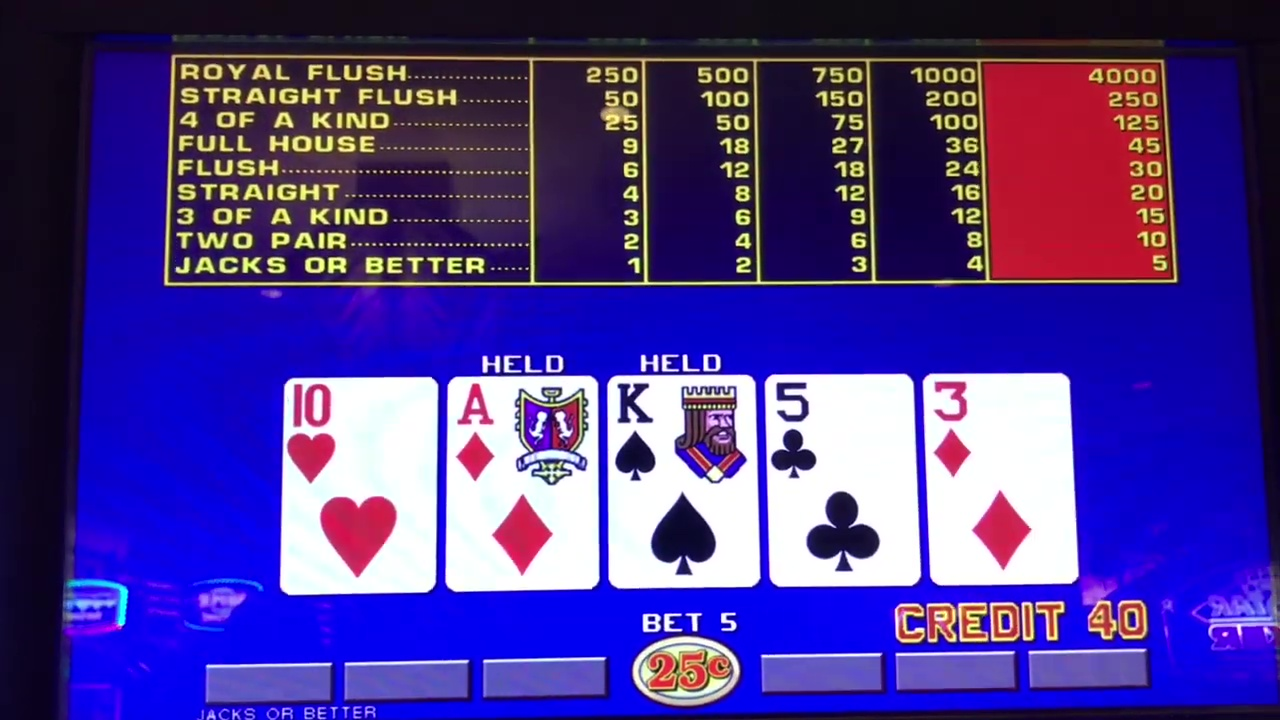C5: (772, 375, 908, 490)
D3: (929, 376, 1070, 488)
DA: (451, 377, 592, 488)
HT: (290, 380, 430, 494)
SK: (615, 378, 758, 489)
